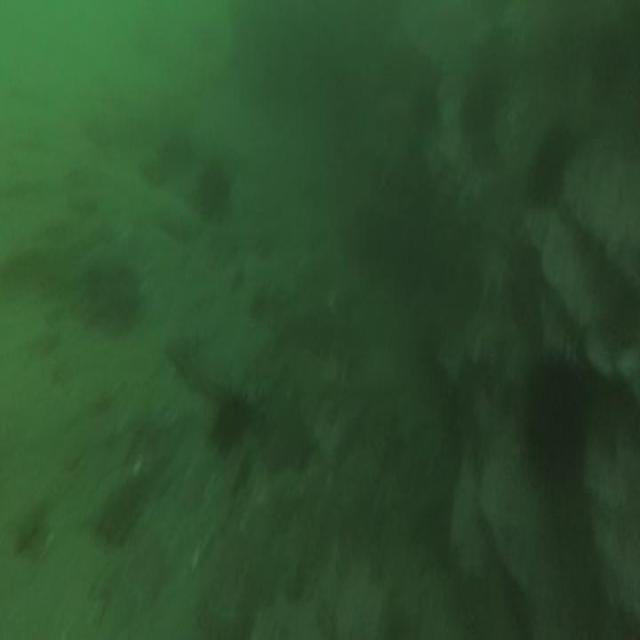echinus: (528, 368, 586, 484), (524, 141, 562, 199), (213, 393, 247, 452), (198, 163, 228, 216), (462, 90, 495, 136)
